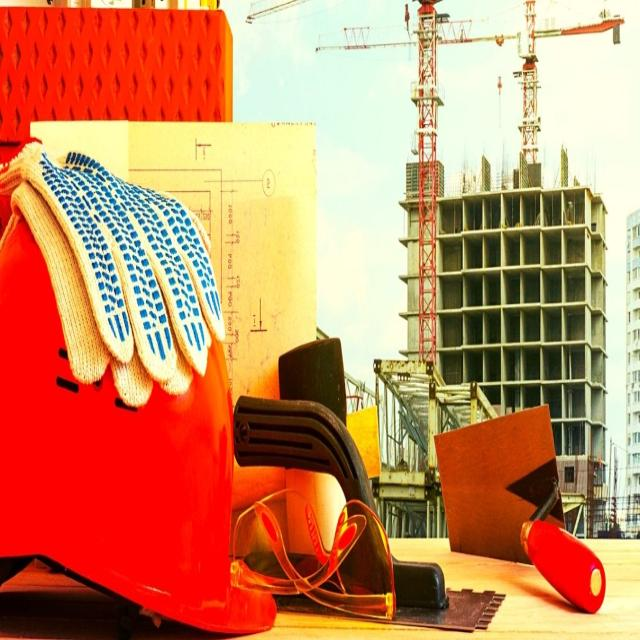goggles: (227, 475, 397, 635)
helmet: (0, 209, 279, 640)
